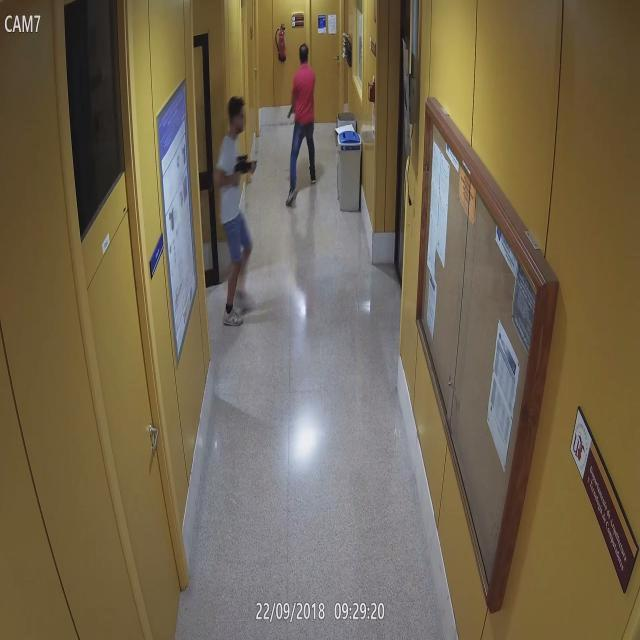weapon: (230, 156, 259, 188), (286, 106, 296, 122)
